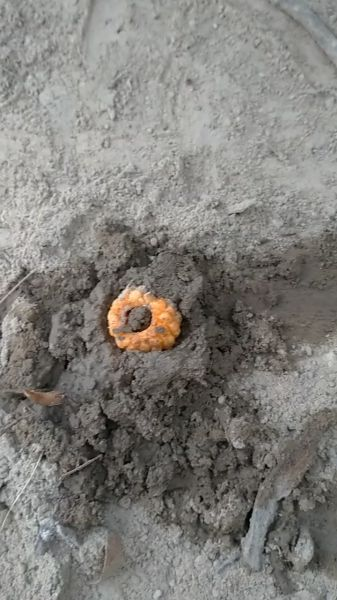eggs: (102, 285, 192, 354)
